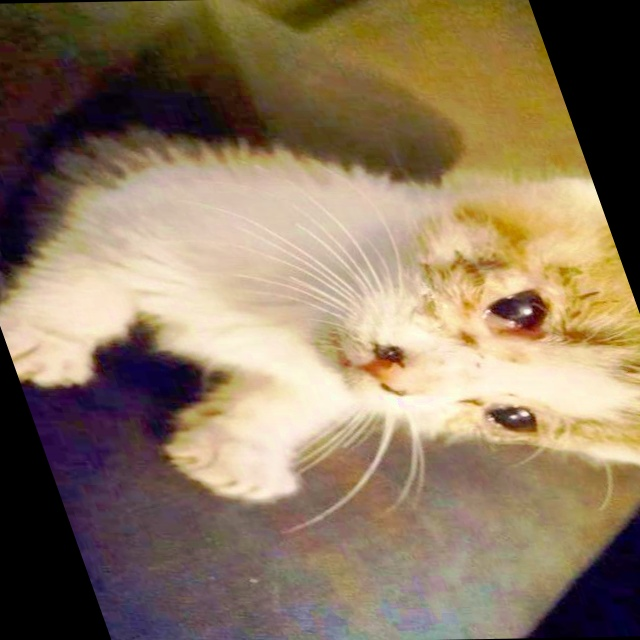eye_infection: (469, 289, 559, 352), (472, 392, 545, 446)
